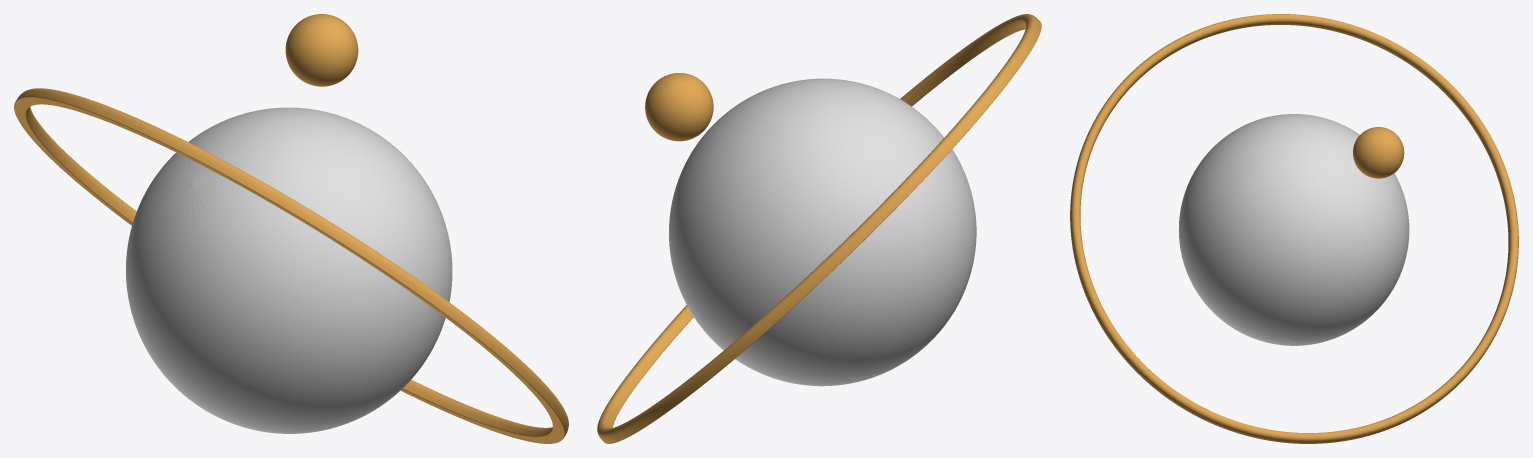
The model's file is Planet.optimized.glb.
3 renders of one model, left to right at view 1: azimuth 30°, elevation 25°; view 2: azimuth 150°, elevation 25°; view 3: azimuth 270°, elevation 25°, orthographic. The views are drawn at different scales.
Visible parts, largest first — view 1: Sphere, Ring; view 2: Sphere, Ring; view 3: Sphere, Ring.
Boxes of the visible parts, left/top/right/bottom form: Sphere: left=126, top=107, right=452, bottom=433; Ring: left=14, top=14, right=568, bottom=443; Sphere: left=669, top=78, right=976, bottom=386; Ring: left=597, top=14, right=1041, bottom=443; Sphere: left=1178, top=114, right=1409, bottom=345; Ring: left=1070, top=14, right=1518, bottom=443.
Bounding box in the file's own units: 2.83 × 2.83 × 3.84.
2 materials, 1 textured.
